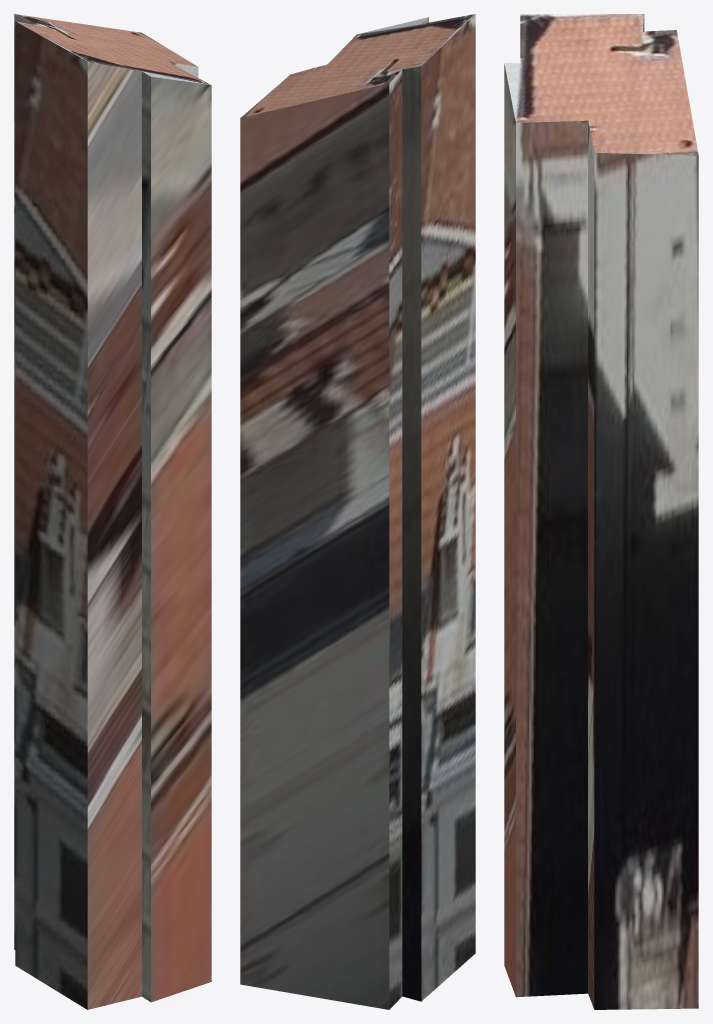
3 views of the same model, side by side, from view 1: azimuth 30°, elevation 25°; view 2: azimuth 150°, elevation 25°; view 3: azimuth 270°, elevation 25° (orthographic). The views are drawn at different scales.
Parts seen in each view (by area): view 1: Z_UP; view 2: Z_UP; view 3: Z_UP.
Boxes of the visible parts, x1=… form: Z_UP: x1=14, y1=14, x2=211, y2=1009; Z_UP: x1=240, y1=14, x2=475, y2=1009; Z_UP: x1=504, y1=14, x2=698, y2=1009.
Bounding box in the file's own units: 4.21 × 24.2 × 4.61.
Materials: 2 (1 with a texture image).
